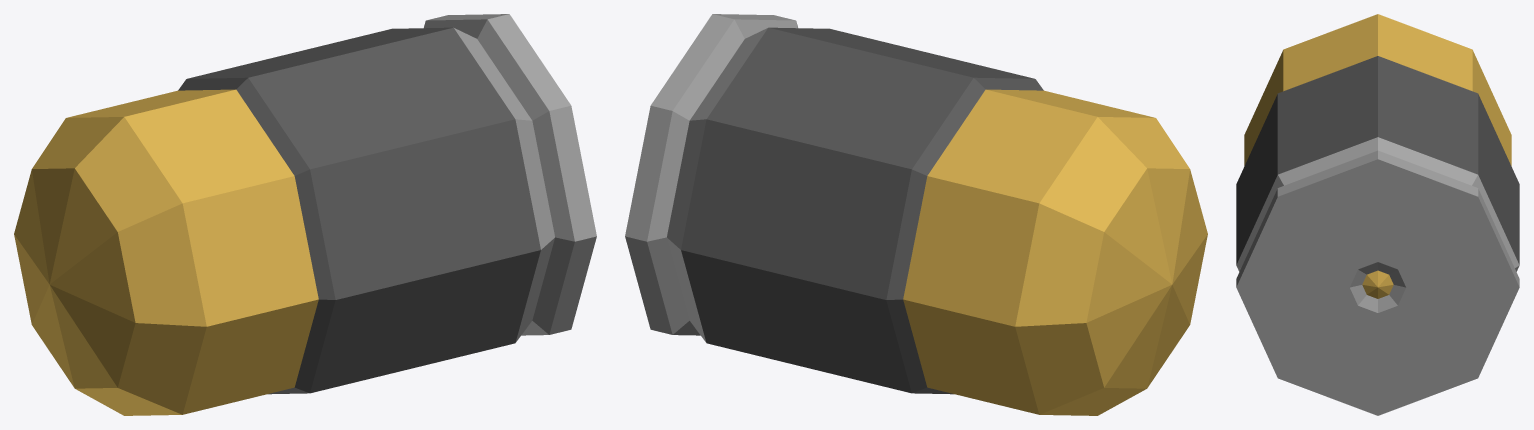
Rendered from RealBullet.fbx.
3 views of the same model, side by side, from view 1: azimuth 30°, elevation 25°; view 2: azimuth 150°, elevation 25°; view 3: azimuth 270°, elevation 25° (orthographic). The views are drawn at different scales.
Parts seen in each view (by area): view 1: Bullet; view 2: Bullet; view 3: Bullet.
Part boxes in pixels (bbox=[...]): Bullet: bbox=[14, 14, 596, 415]; Bullet: bbox=[625, 14, 1207, 415]; Bullet: bbox=[1236, 14, 1519, 415].
Size of the model in its own units: 2.06 by 1.36 by 1.36.
